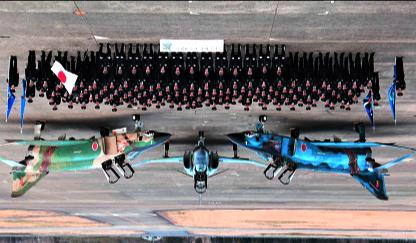F35: (219, 114, 415, 200), (0, 114, 178, 198), (128, 130, 272, 206)
